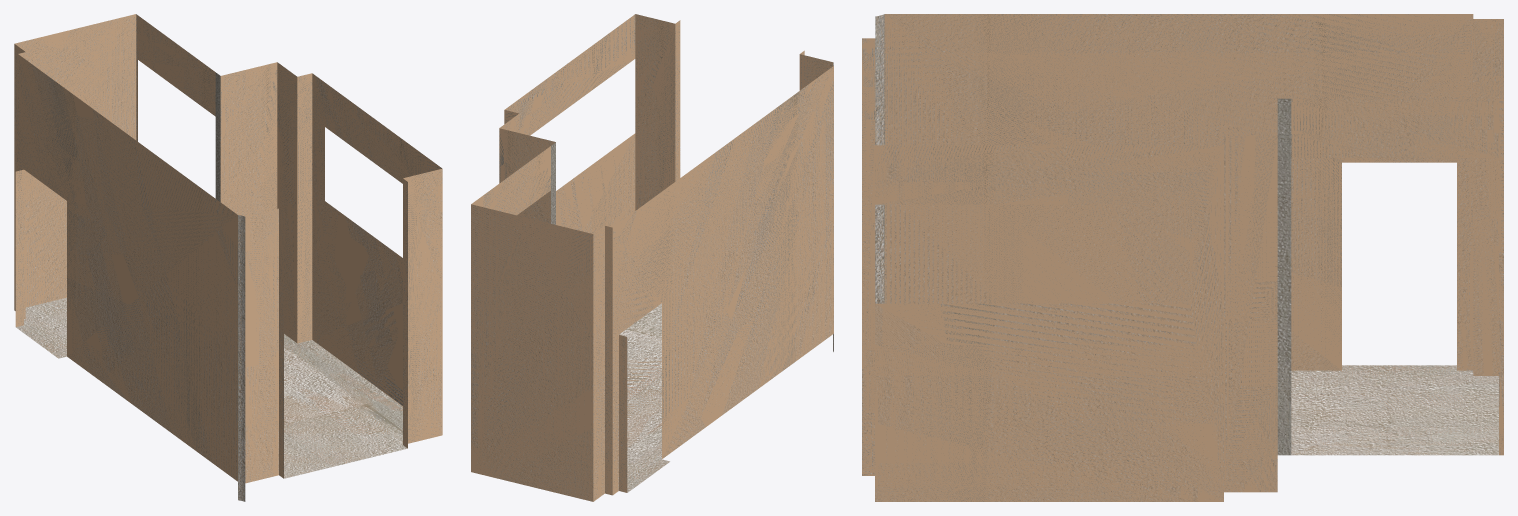
The model's file is COM006.obj.
The picture shows the model from 3 angles, left to right: view 1: azimuth 30°, elevation 25°; view 2: azimuth 150°, elevation 25°; view 3: azimuth 270°, elevation 25°; orthographic projection. The views are drawn at different scales.
Visible parts, largest first — view 1: Mesh1 COM006 Model; view 2: Mesh1 COM006 Model; view 3: Mesh1 COM006 Model.
Part boxes in pixels (left/top/right/bottom): Mesh1 COM006 Model: left=14, top=14, right=442, bottom=501; Mesh1 COM006 Model: left=471, top=14, right=833, bottom=501; Mesh1 COM006 Model: left=862, top=14, right=1503, bottom=501.
Bounding box in the file's own units: 2.96 × 3.85 × 5.87.
Materials: 5 (3 with a texture image).
